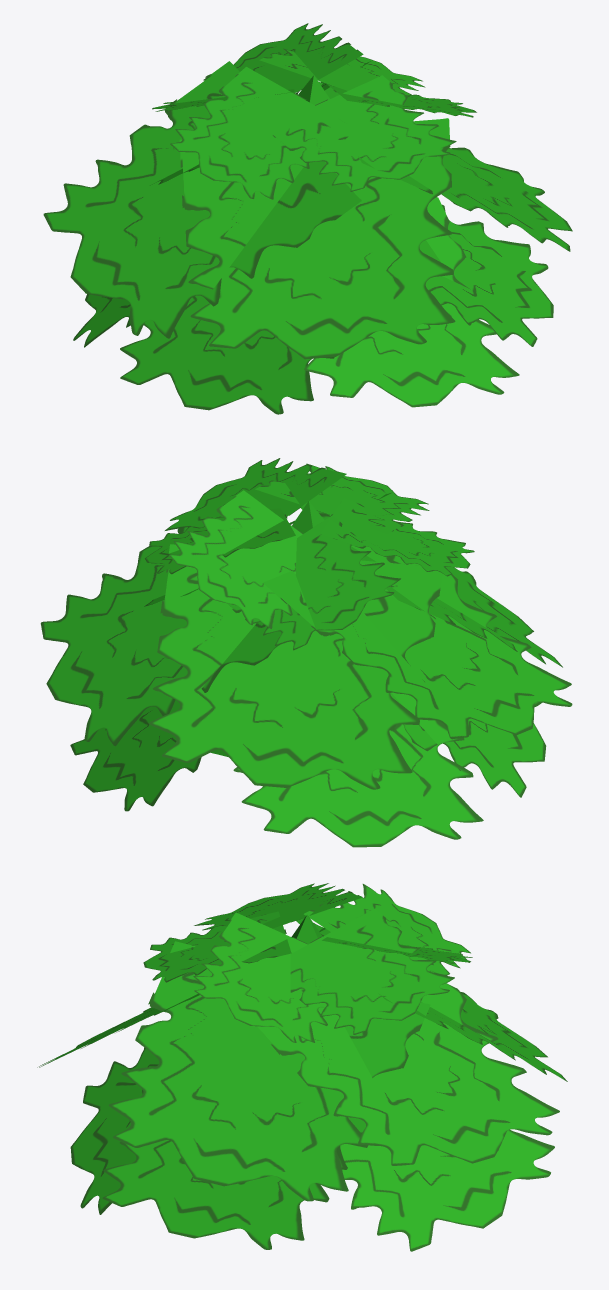
The model's file is bush_a.glb.
3 renders of one model, top to bottom at view 1: azimuth 30°, elevation 25°; view 2: azimuth 150°, elevation 25°; view 3: azimuth 270°, elevation 25°, orthographic.
Visible parts, largest first — view 1: leaf_plane.006, leaf_plane.007, leaf_plane.001, leaf_plane.005, leaf_plane.013, leaf_plane.012, leaf_plane.002, leaf_plane.010, leaf_plane.015, leaf_plane, leaf_plane.004, leaf_plane.011 (+1 smaller); view 2: leaf_plane.008, leaf_plane.007, leaf_plane.009, leaf_plane.004, leaf_plane.015, leaf_plane.014, leaf_plane.003, leaf_plane.005, leaf_plane.013, leaf_plane.011, leaf_plane.012, leaf_plane.006 (+2 smaller); view 3: leaf_plane.010, leaf_plane.009, leaf_plane.003, leaf_plane.002, leaf_plane, leaf_plane.011, leaf_plane.001, leaf_plane.014, leaf_plane.012, leaf_plane.008, leaf_plane.013, leaf_plane.015 (+1 smaller).
Part boxes in pixels (x1,y1,x2,y2): leaf_plane.006: (179, 118, 455, 359); leaf_plane.007: (43, 61, 361, 338); leaf_plane.001: (304, 197, 519, 407); leaf_plane.005: (120, 295, 334, 414); leaf_plane.013: (170, 67, 356, 199); leaf_plane.012: (265, 75, 456, 191); leaf_plane.002: (425, 204, 553, 346); leaf_plane.010: (318, 81, 572, 251); leaf_plane.015: (205, 23, 363, 93); leaf_plane: (259, 48, 425, 96); leaf_plane.004: (73, 294, 130, 347); leaf_plane.011: (327, 84, 476, 117); leaf_plane.008: (148, 544, 442, 789); leaf_plane.007: (263, 545, 572, 739); leaf_plane.009: (40, 527, 290, 746); leaf_plane.004: (233, 692, 483, 847); leaf_plane.015: (168, 490, 303, 628); leaf_plane.014: (227, 515, 400, 650); leaf_plane.003: (70, 706, 201, 811); leaf_plane.005: (390, 693, 546, 797); leaf_plane.013: (320, 498, 474, 576); leaf_plane.011: (165, 458, 346, 530); leaf_plane.012: (255, 463, 429, 533); leaf_plane.006: (300, 505, 562, 667); leaf_plane.010: (108, 941, 430, 1201); leaf_plane.009: (257, 971, 559, 1165); leaf_plane.003: (340, 1129, 554, 1251); leaf_plane.002: (102, 1117, 365, 1249); leaf_plane: (290, 908, 454, 1034); leaf_plane.011: (193, 912, 327, 1042); leaf_plane.001: (70, 1047, 159, 1214); leaf_plane.014: (304, 884, 470, 975); leaf_plane.012: (143, 911, 291, 982); leaf_plane.008: (296, 918, 567, 1081); leaf_plane.013: (194, 883, 362, 943); leaf_plane.015: (322, 937, 472, 963).
Size of the model in its own units: 2.44 by 1.31 by 2.59.
Materials: 2 (1 with a texture image).
